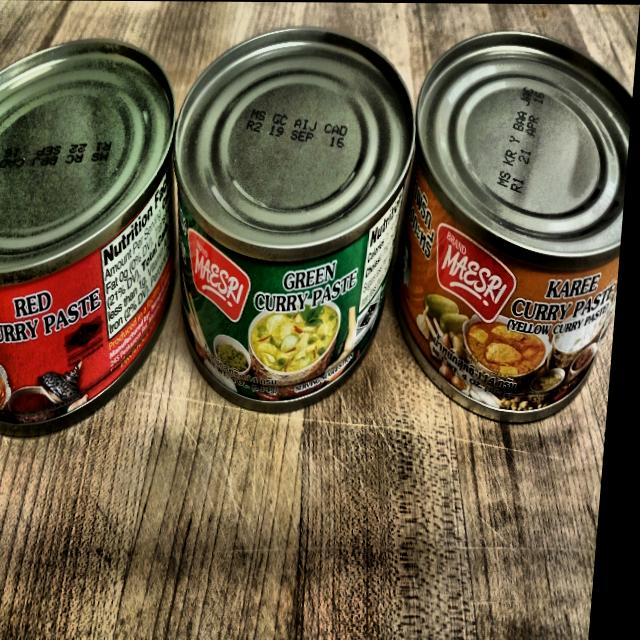Cans: (157, 40, 431, 412), (386, 40, 636, 418), (0, 51, 193, 425)
